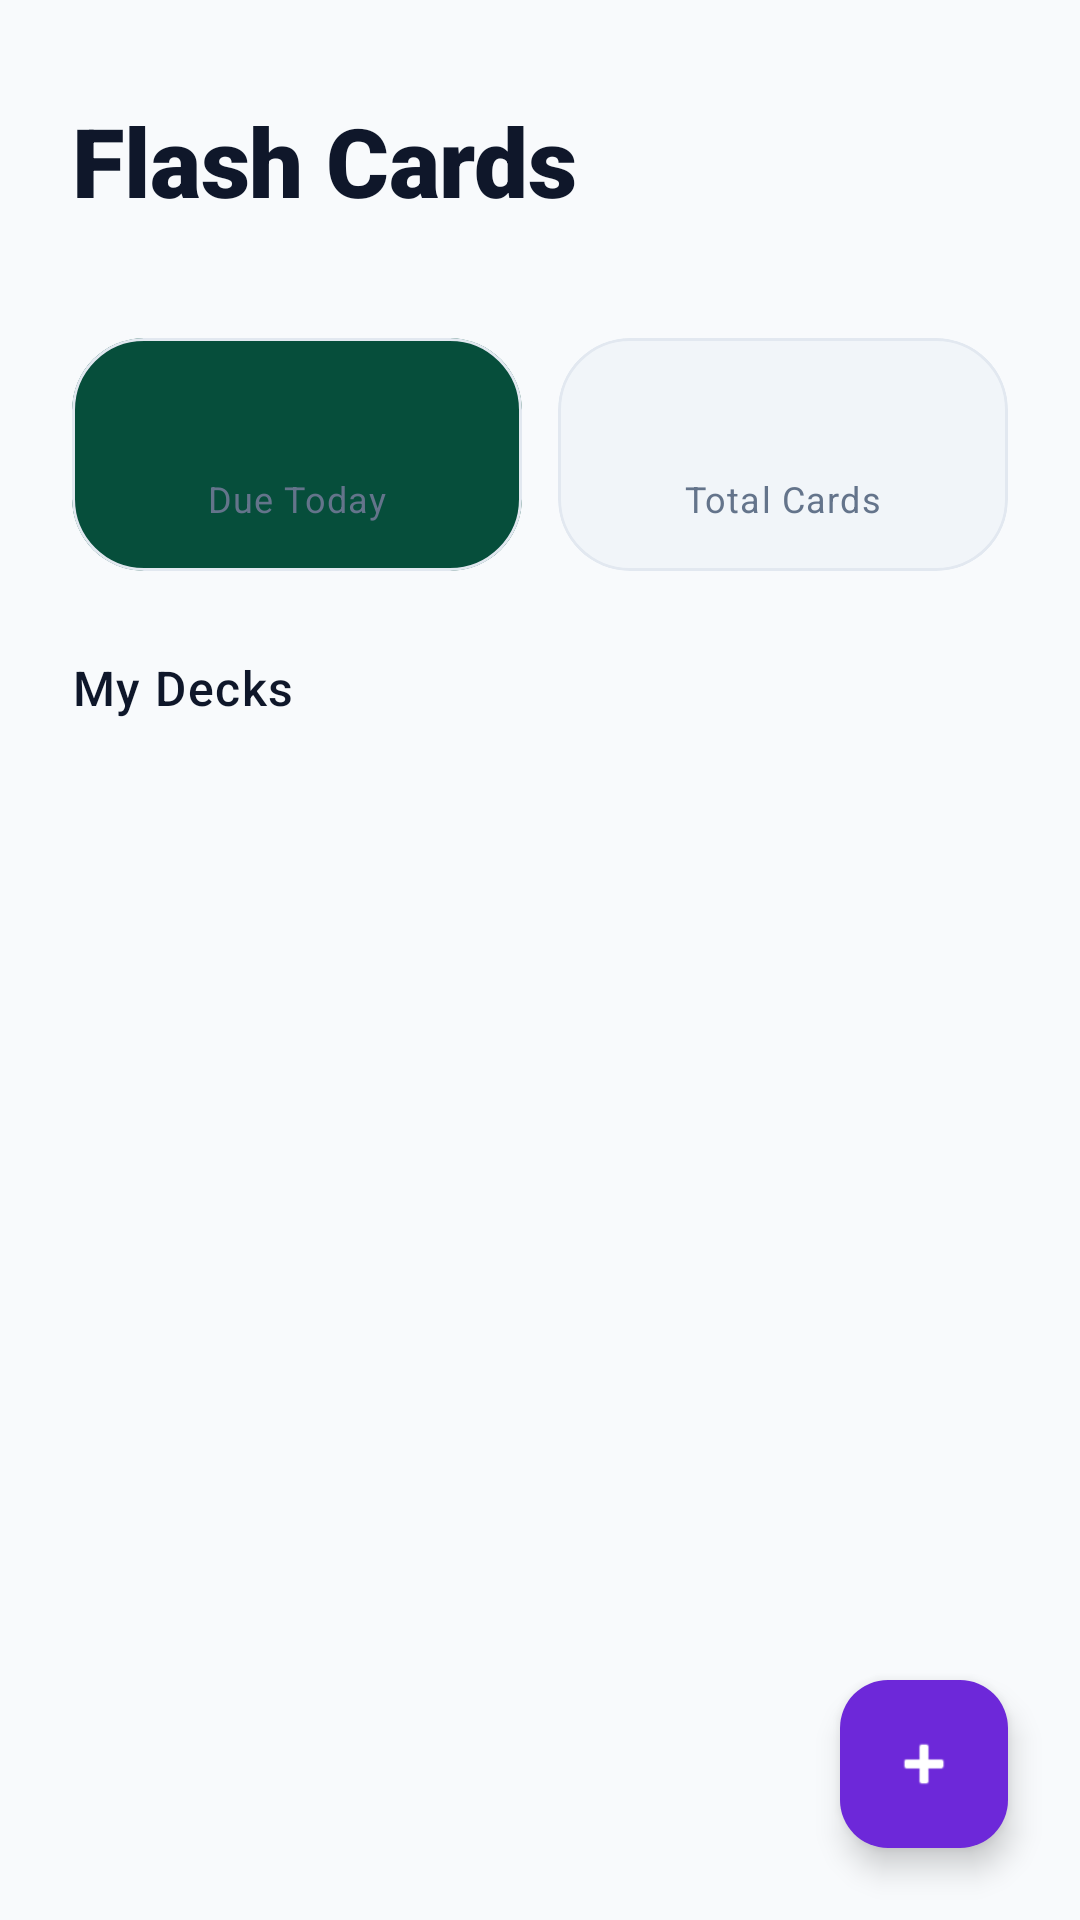

Icons on this 1080 x 1920 Android screen, each with its box as (x1, y1, x2, y2):
Create Deck: (840, 1680, 1008, 1848)
